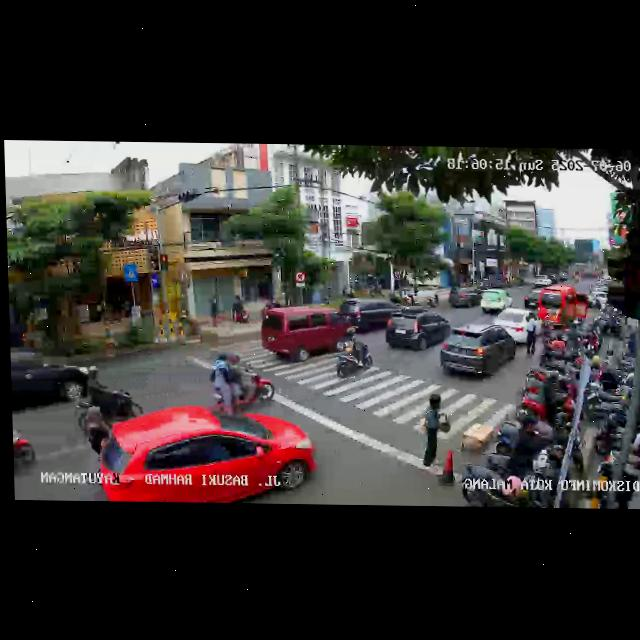car: (99, 406, 316, 504), (260, 303, 358, 366), (11, 350, 92, 420), (437, 326, 519, 384), (384, 307, 451, 355), (538, 286, 590, 331), (335, 299, 399, 331), (491, 305, 543, 344), (479, 287, 513, 315), (449, 287, 482, 311), (522, 288, 543, 309)
motorcycle: (205, 347, 277, 415), (75, 371, 142, 428), (333, 327, 374, 381), (12, 416, 38, 476)
person: (418, 395, 451, 477), (524, 317, 539, 356), (231, 295, 248, 328)
